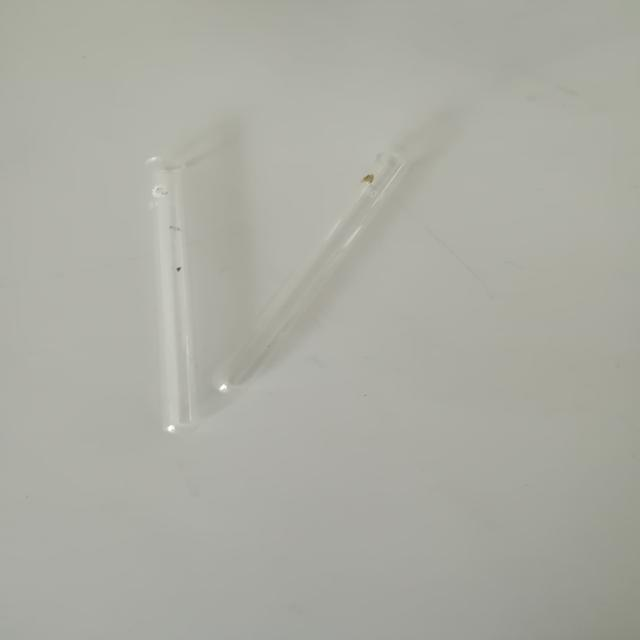Test_Tube: (217, 118, 446, 396), (108, 134, 211, 442)
